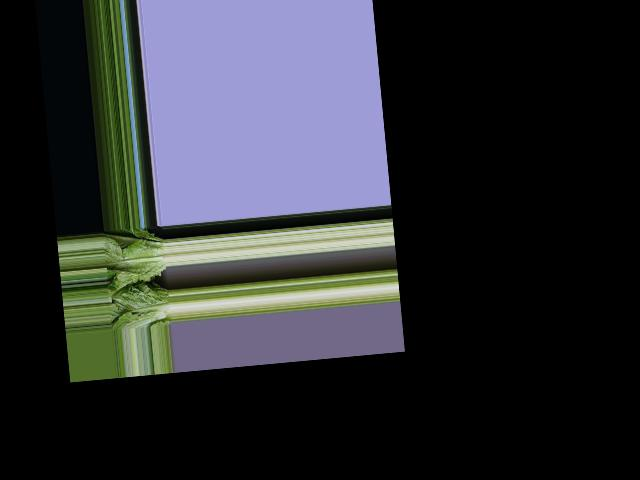lettuce: (111, 283, 172, 327)
